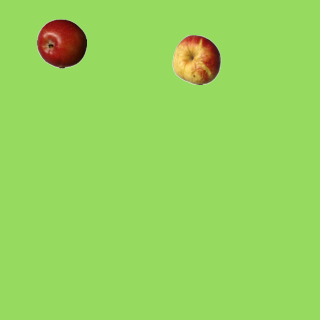Apple Braeburn: (36, 18, 86, 68)
Apple Red Yellow 1: (171, 34, 221, 84)
